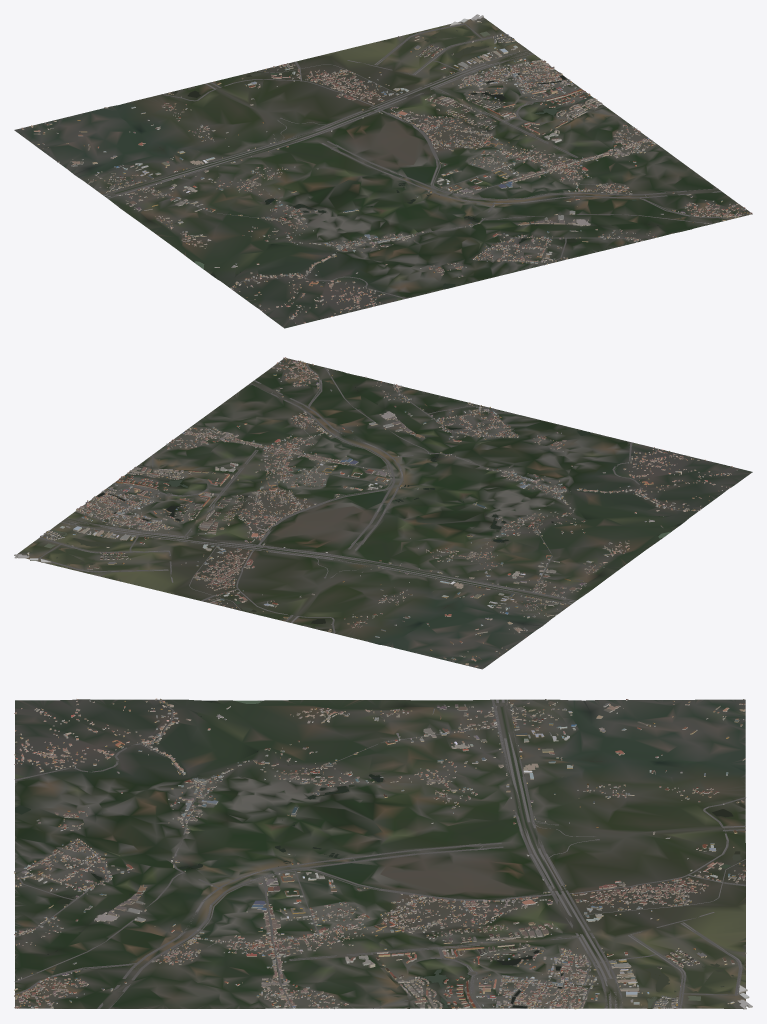
3 views of the same model, one above another, from view 1: azimuth 30°, elevation 25°; view 2: azimuth 150°, elevation 25°; view 3: azimuth 270°, elevation 25° (orthographic). The views are drawn at different scales.
Visible parts, largest first — view 1: ground, buildings, roads, water; view 2: ground, buildings, roads, water; view 3: ground, buildings, roads, water.
Part boxes in pixels (x1,y1,x2,y2): ground: (14,17,752,328); buildings: (15,14,752,323); roads: (102,23,735,298); water: (159,26,681,288); ground: (16,358,752,669); buildings: (14,357,737,668); roads: (38,361,699,633); water: (40,382,682,630); ground: (15,699,745,1008); buildings: (14,698,752,1009); roads: (14,699,745,1008); water: (15,700,745,1008).
Size of the model in its own units: 5616 by 33.91 by 5669.
